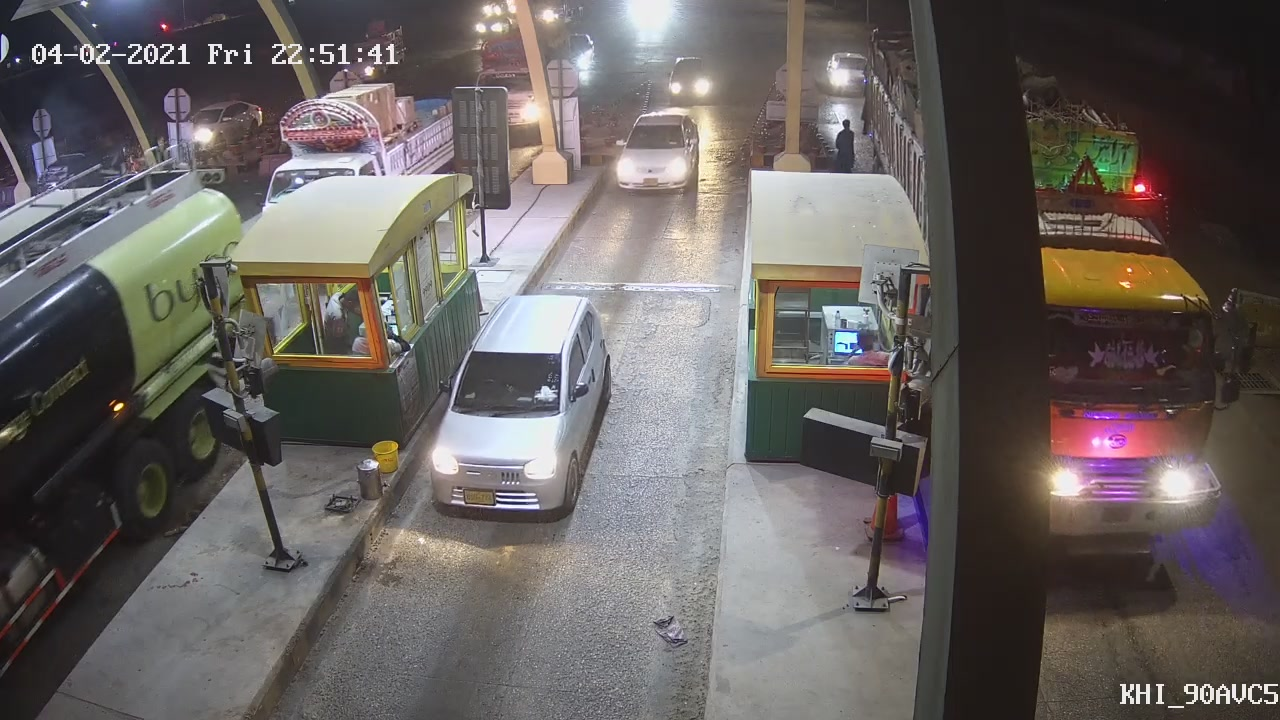F1: (428, 289, 607, 518), (612, 106, 703, 197)
